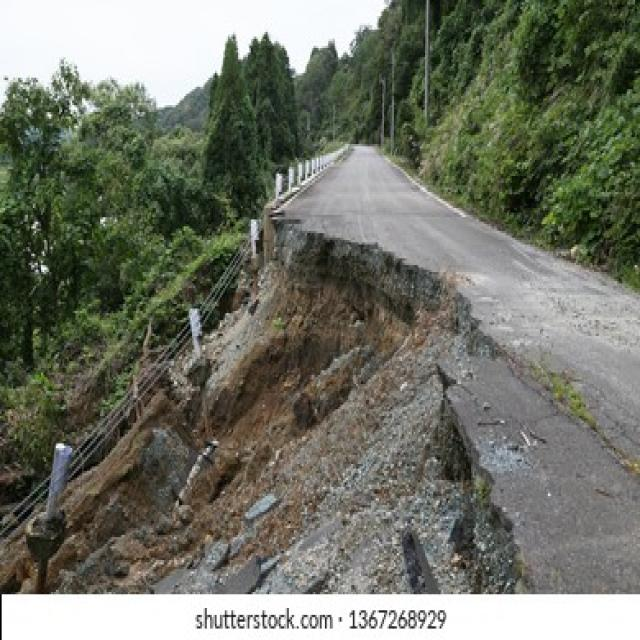road collapse: (38, 175, 571, 640)
